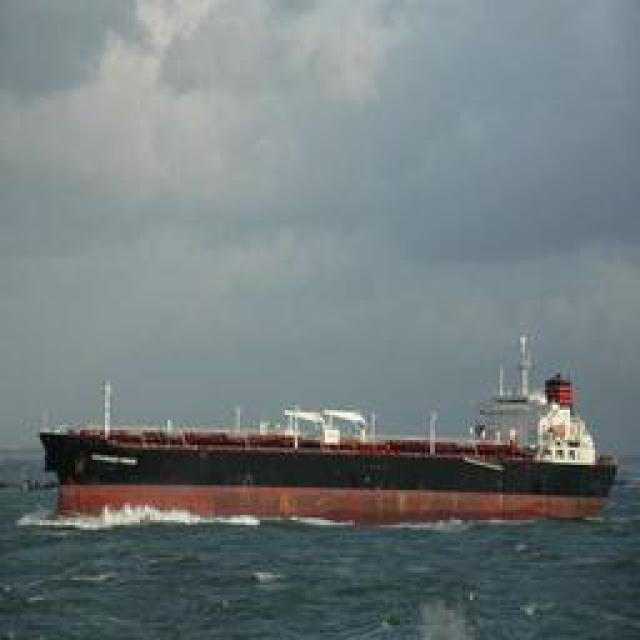Ship: (19, 349, 629, 532)
